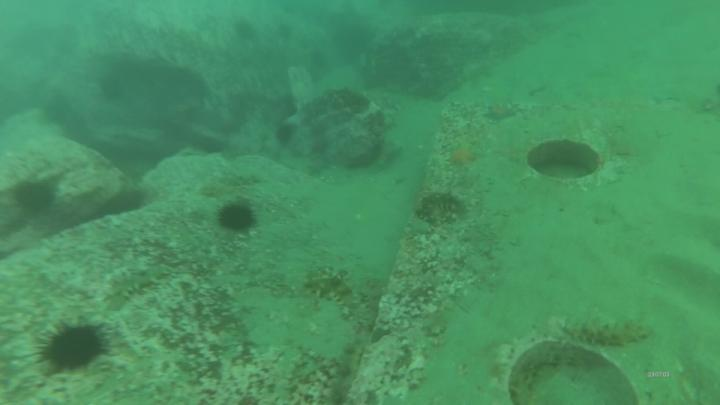echinus: (38, 322, 104, 378), (216, 200, 262, 235), (17, 176, 53, 215)
holothurian: (562, 317, 658, 348), (414, 187, 466, 221), (308, 267, 354, 303)
starfish: (447, 142, 482, 169), (486, 101, 519, 124)
